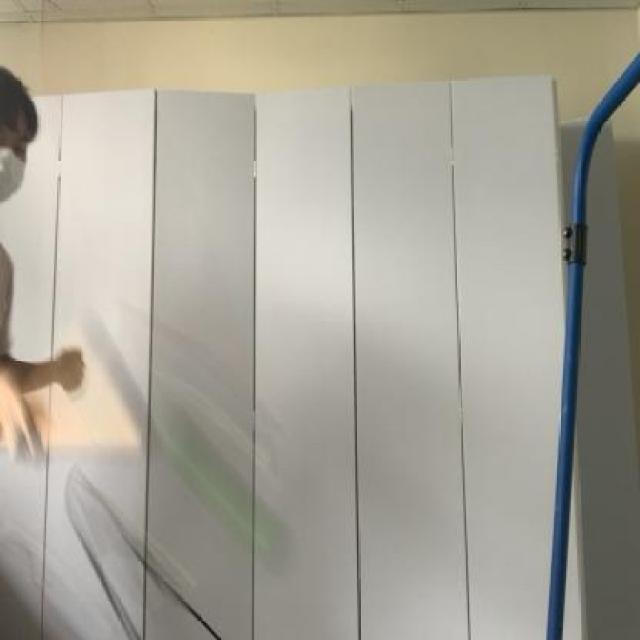baseball: (138, 405, 282, 563)
